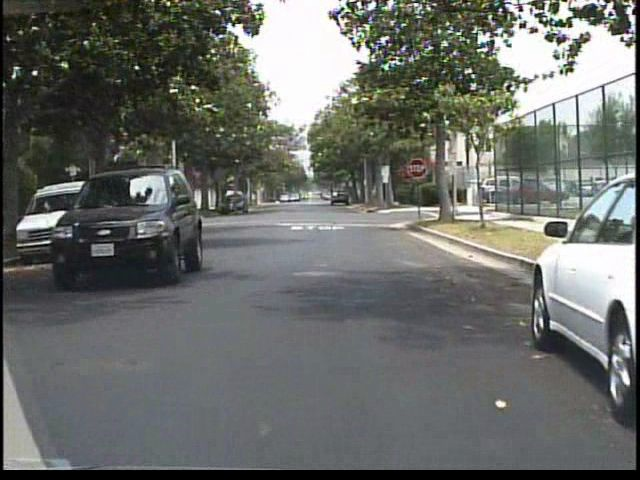person: (228, 180, 249, 221)
